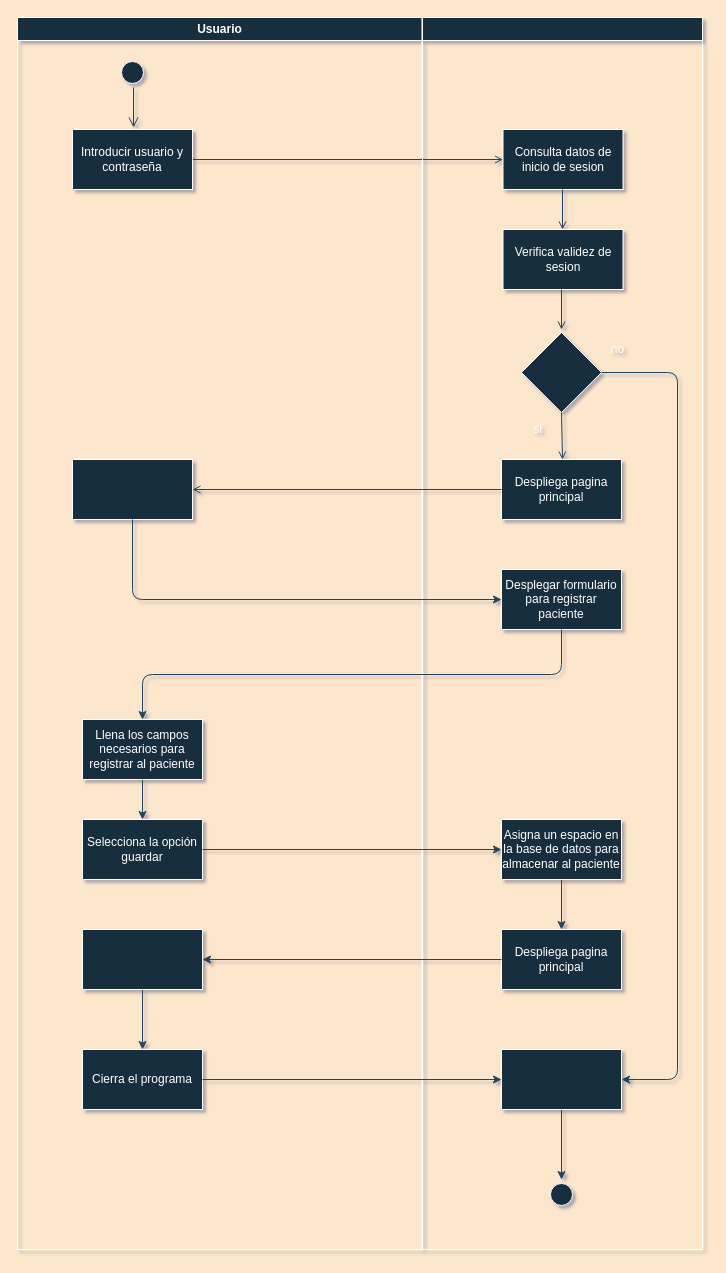
This 726x1273 diagram has some shape labels left out. Each missing label, with the box of its shape:
Cierra sesión: (82, 928, 202, 990)
Finalizar su ejecución: (500, 1048, 622, 1110)
Selecciona registrar paciente: (72, 458, 192, 520)
Sesion valida?: (520, 332, 602, 412)
Sistema: (422, 16, 702, 1250)
